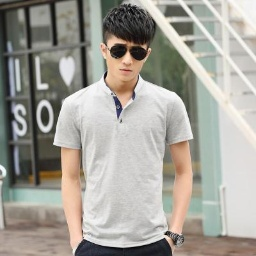face: (102, 4, 155, 84)
